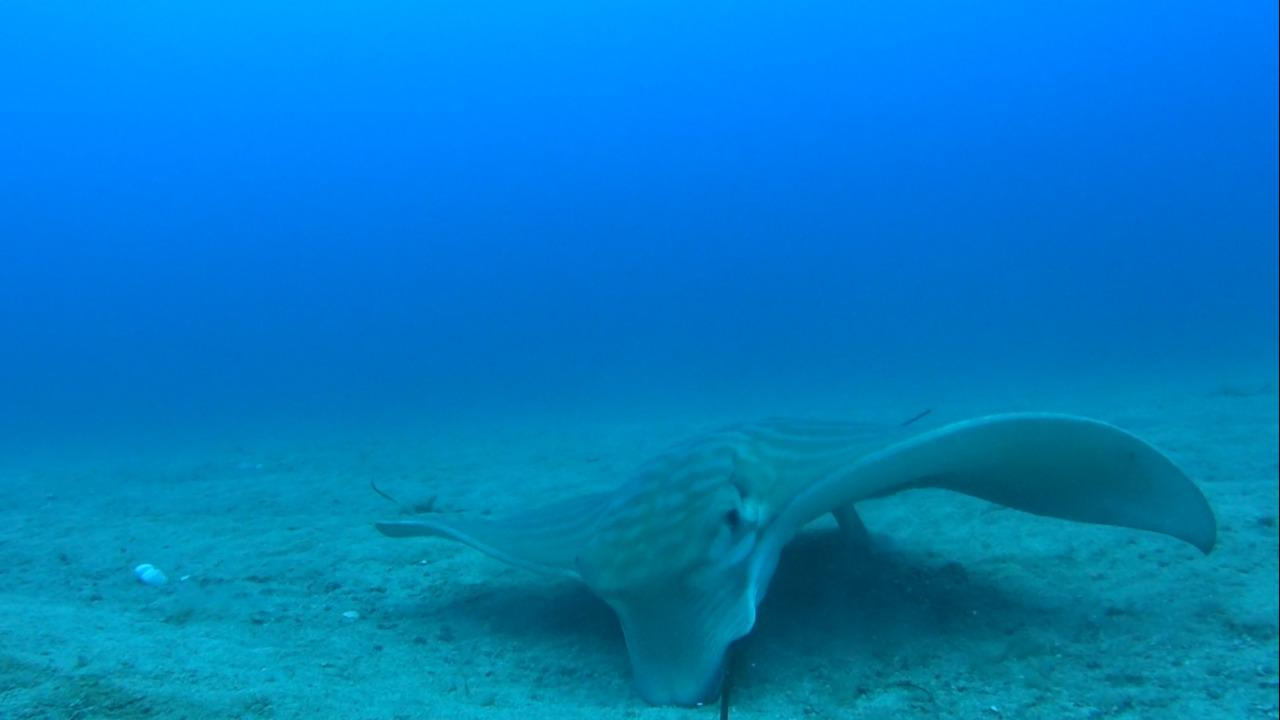myliobatis: (370, 397, 1230, 717)
